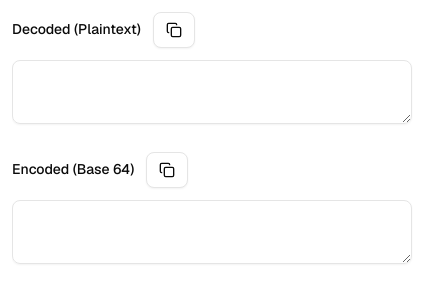
Test case: Base64 Tool › encodes plaintext to base64 when typing in the decoded field
This screenshot has width=432, height=281.
Type "Hello World" into the text box labelled "Decoded (Plaintext)" at (212, 92), box [12,60,412,124]
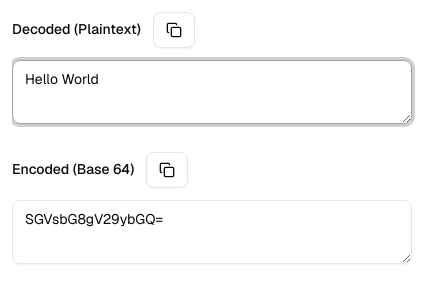
Expected: the text box labelled "Encoded (Base 64)" holds "SGVsbG8gV29ybGQ=", [12,200,412,264]
